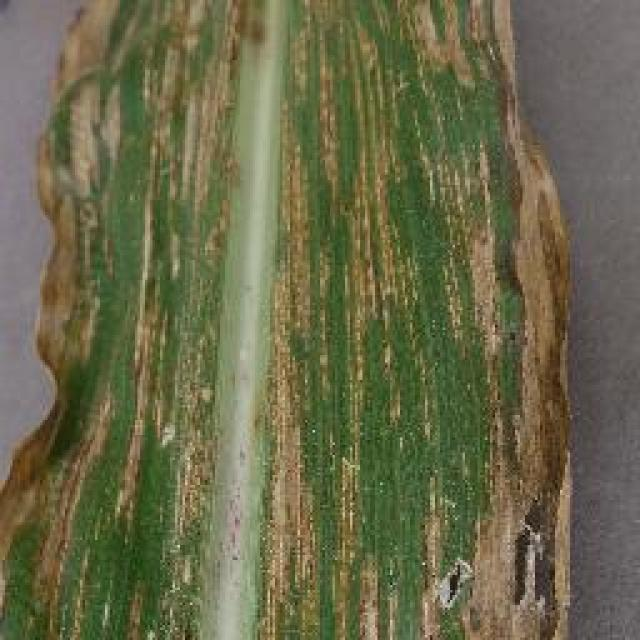Corn___Cercospora_leaf_spot Gray_leaf_spot: (0, 7, 602, 640)
